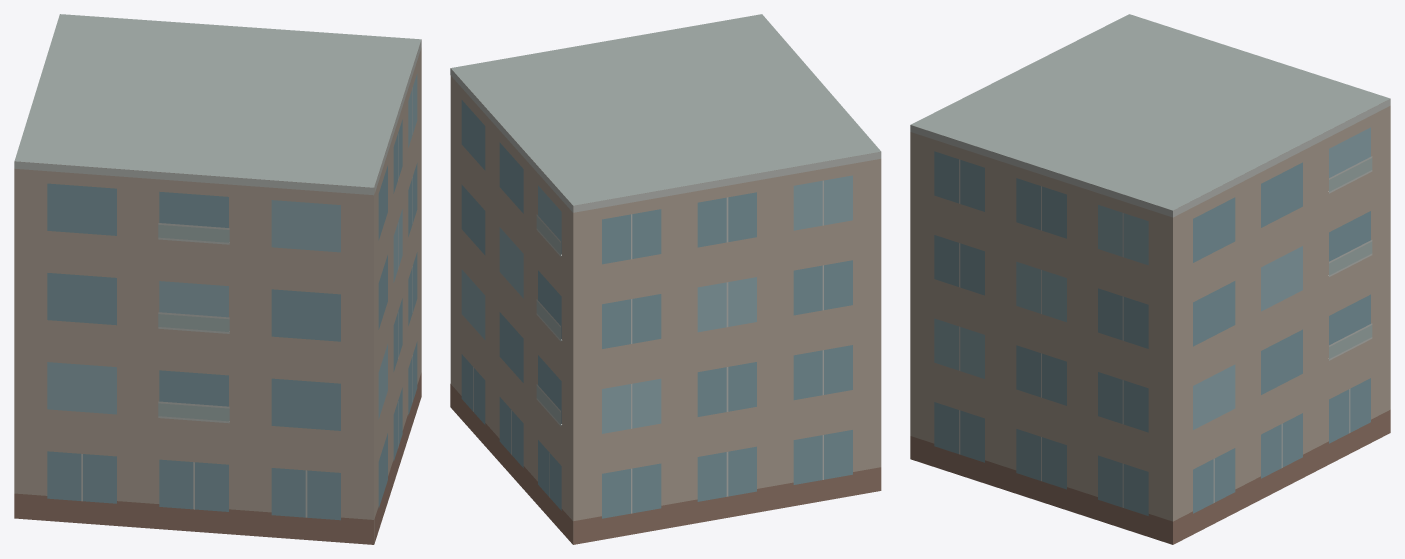
Rendered from survey-upis-32822624.glb.
The picture shows the model from 3 angles, left to right: view 1: azimuth 30°, elevation 25°; view 2: azimuth 150°, elevation 25°; view 3: azimuth 270°, elevation 25°; orthographic projection. The views are drawn at different scales.
Parts seen in each view (by area): view 1: survey-upis-32822624.tmp; view 2: survey-upis-32822624.tmp; view 3: survey-upis-32822624.tmp.
Boxes of the visible parts, x1,y1,x2,y2 form: survey-upis-32822624.tmp: (14, 14, 421, 544); survey-upis-32822624.tmp: (450, 14, 881, 544); survey-upis-32822624.tmp: (910, 14, 1390, 544).
Bounding box in the file's own units: 14.77 × 11.7 × 15.25.
